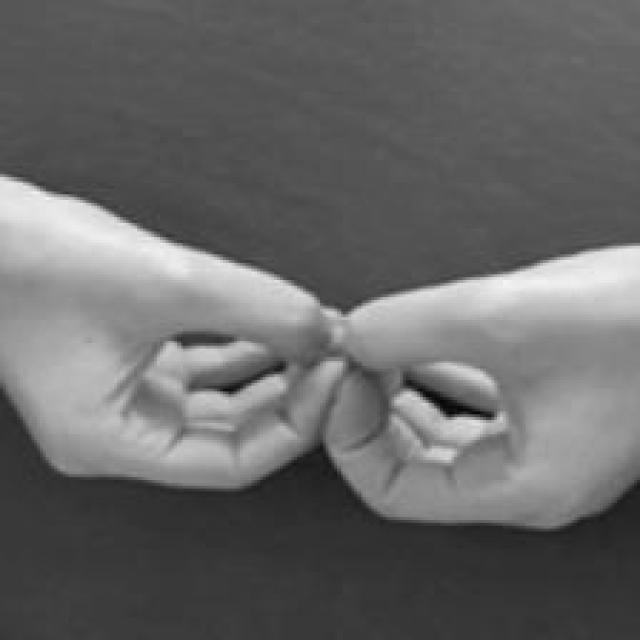B: (1, 173, 640, 534)
